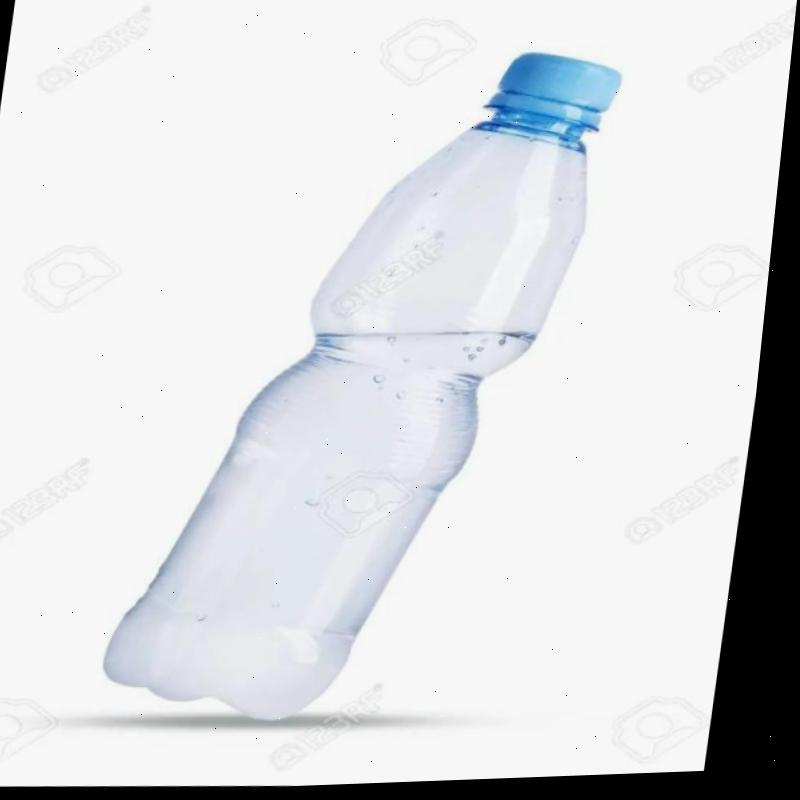botella: (109, 39, 626, 738)
